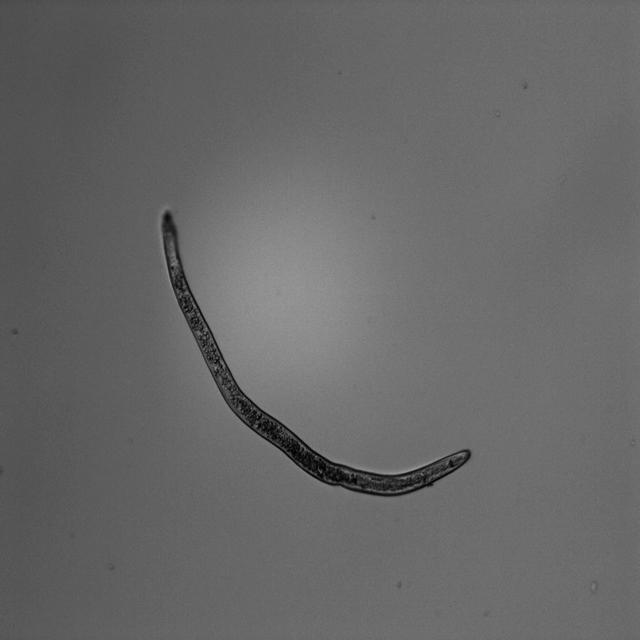Helicotylenchus: (154, 204, 489, 502)
